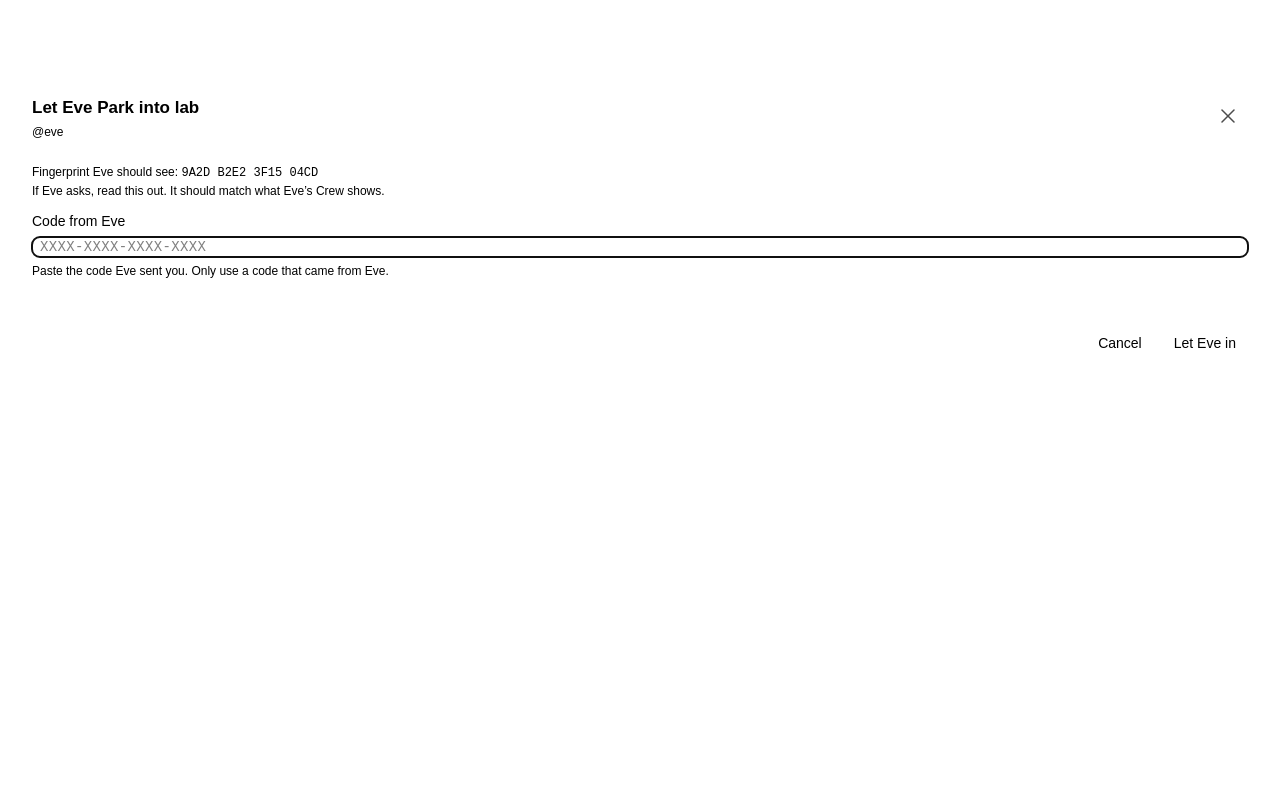
Test case: LetInDialog › reads an older daemon’s envelope the same way, and drops Replace once the code changes
The image size is (1280, 800).
Step 1. Type "7QK2M9XA3JTPWZ4D" into the field labelled "Code from Eve" → (640, 247), box [32,237,1248,257]
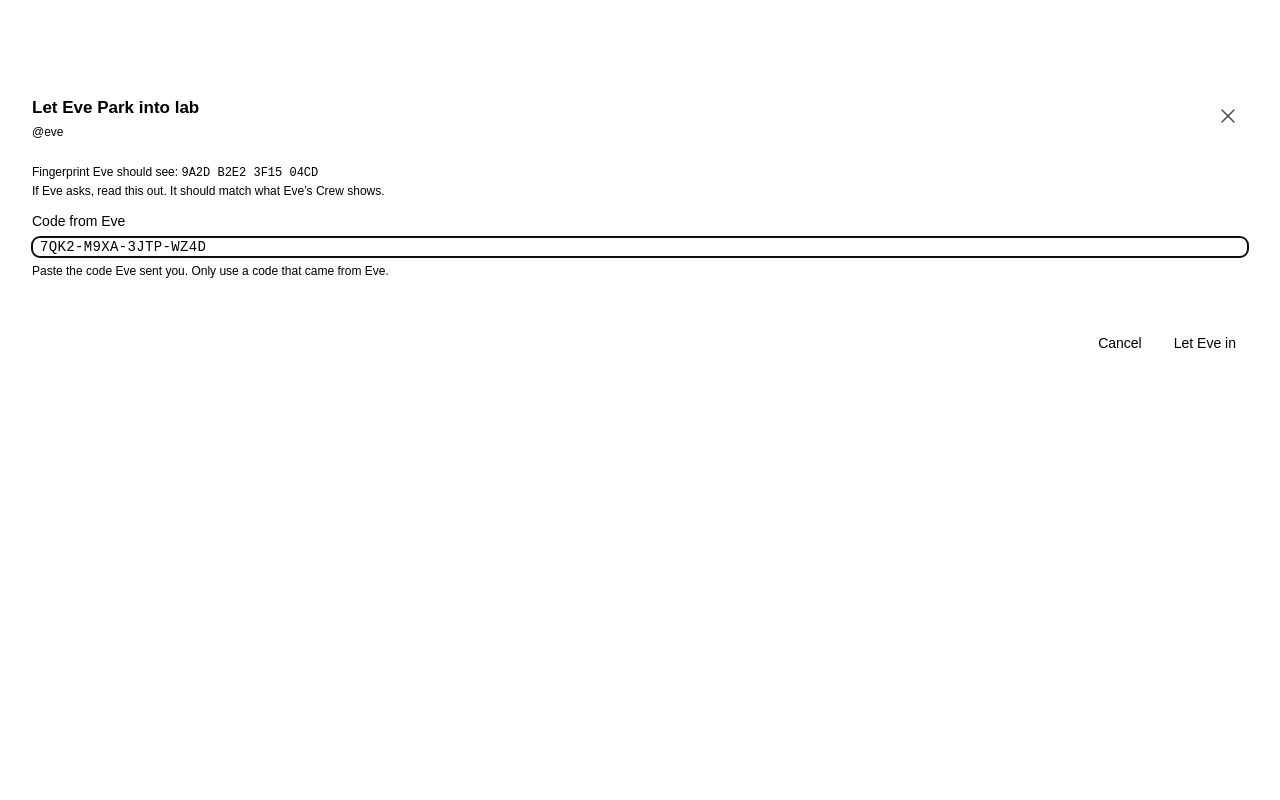
Step 2. Click the button "Let Eve in" → (1205, 343), box [1162,333,1248,353]
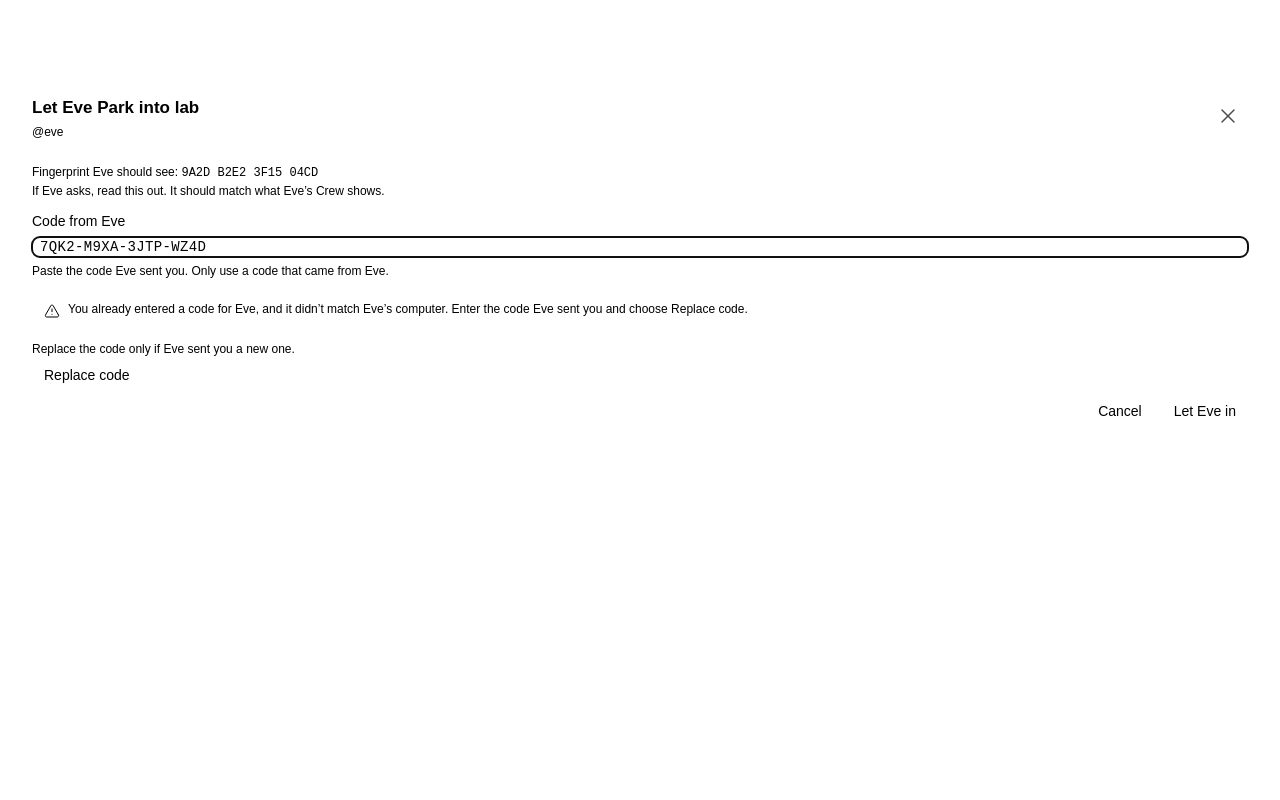
Now the button "Replace code" is shown, box [32,365,142,385]
A different code is a new approval, not a replacement of the one refused.
Step 3. Replace the text in the field labelled "Code from Eve" with "1000-1000-0000-0000" → (640, 247), box [32,237,1248,257]
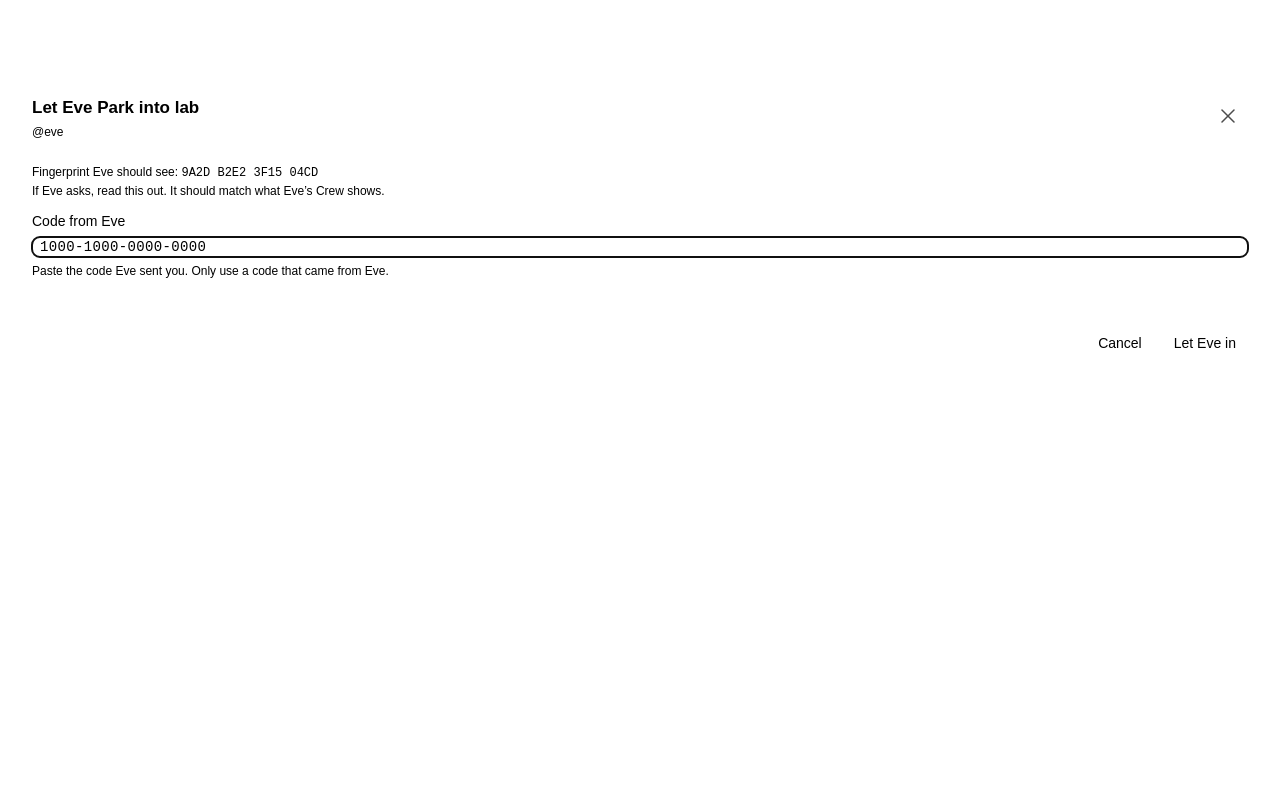
Now the text "Replace code" is gone
